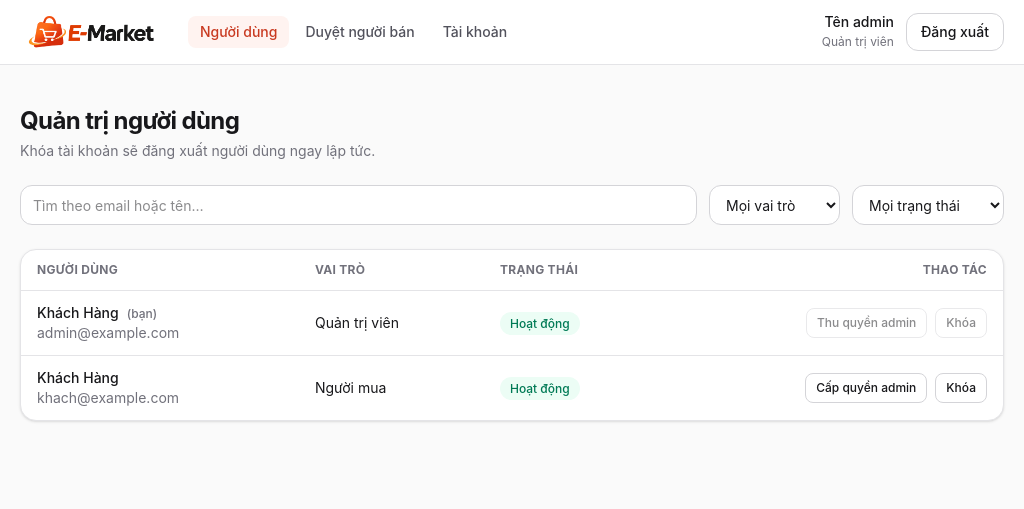
Scenario: quản trị người dùng › khóa người dùng rồi cập nhật dòng; không tự khóa chính mình
Expected: the text "khach@example.com" is shown, [37,389,179,406]
Expected: the button with aria-label "Khóa admin@example.com" is disabled, [935,308,987,338]
Click the button with aria-label "Khóa khach@example.com" at (961, 388), box [935,373,987,403]
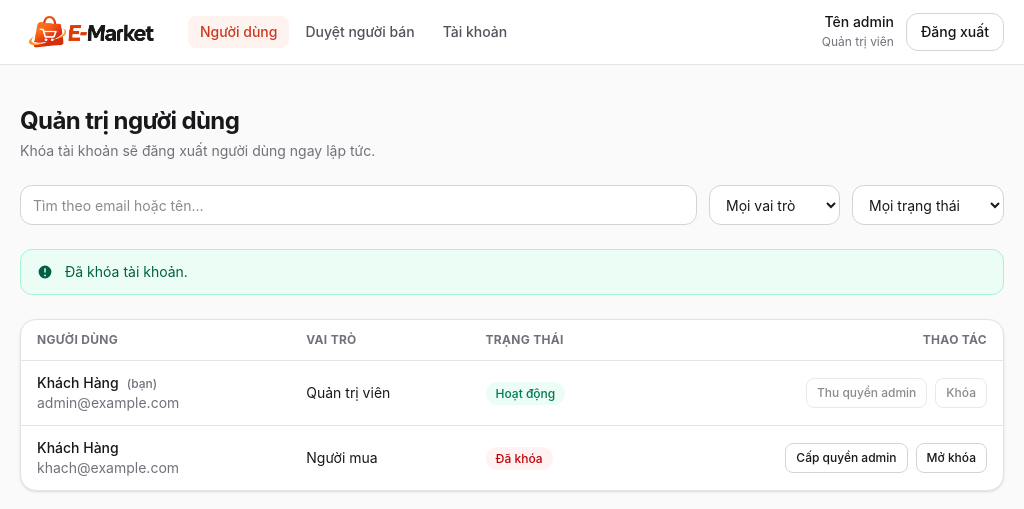
Expected: the text "Đã khóa tài khoản." is shown, [65,262,188,282]
Expected: the button with aria-label "Mở khóa khach@example.com" is shown, [916,443,987,473]
